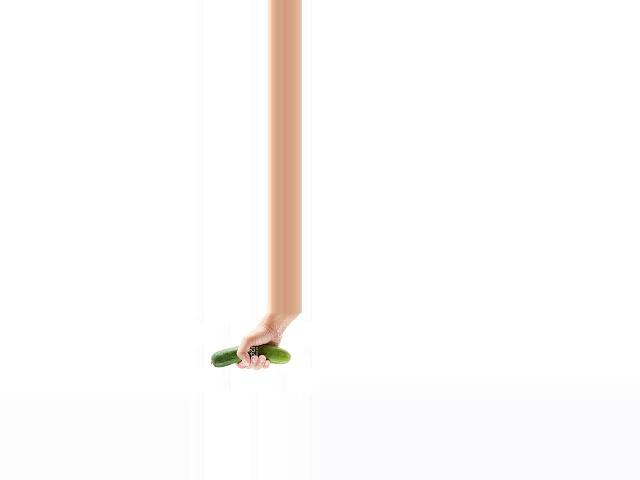cucumber: (211, 344, 290, 368)
